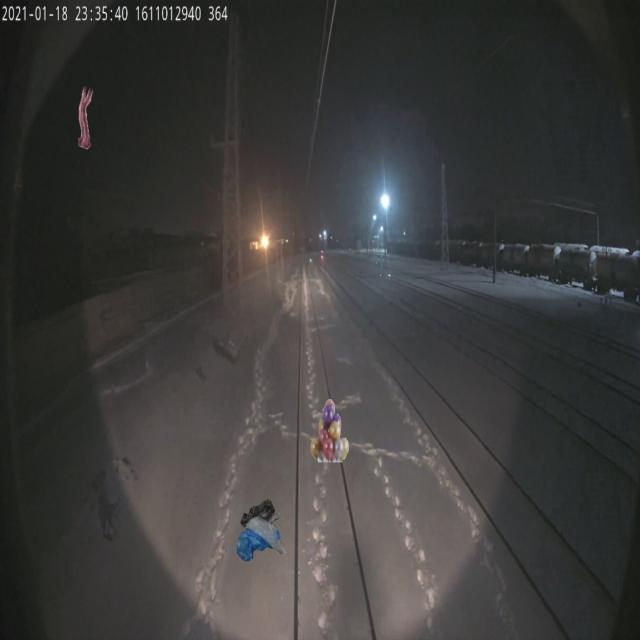balloon: (310, 398, 349, 462)
floating object: (78, 86, 93, 150)
plastic bag: (237, 498, 286, 562)
